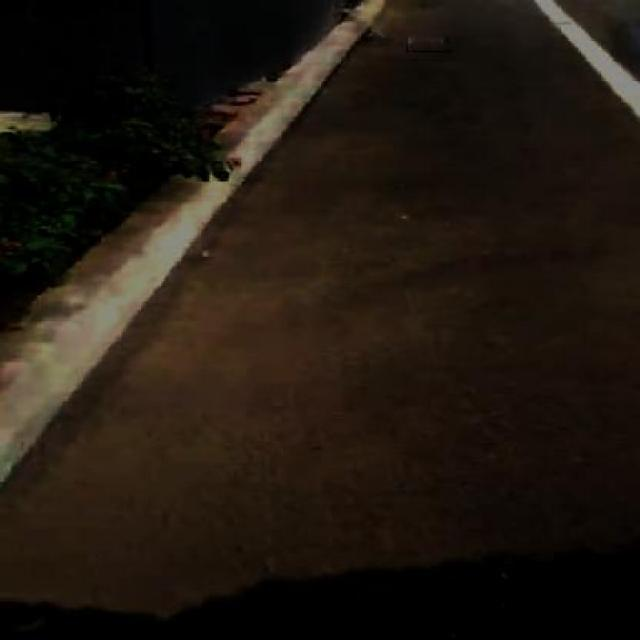Manhole: (407, 34, 453, 52)
